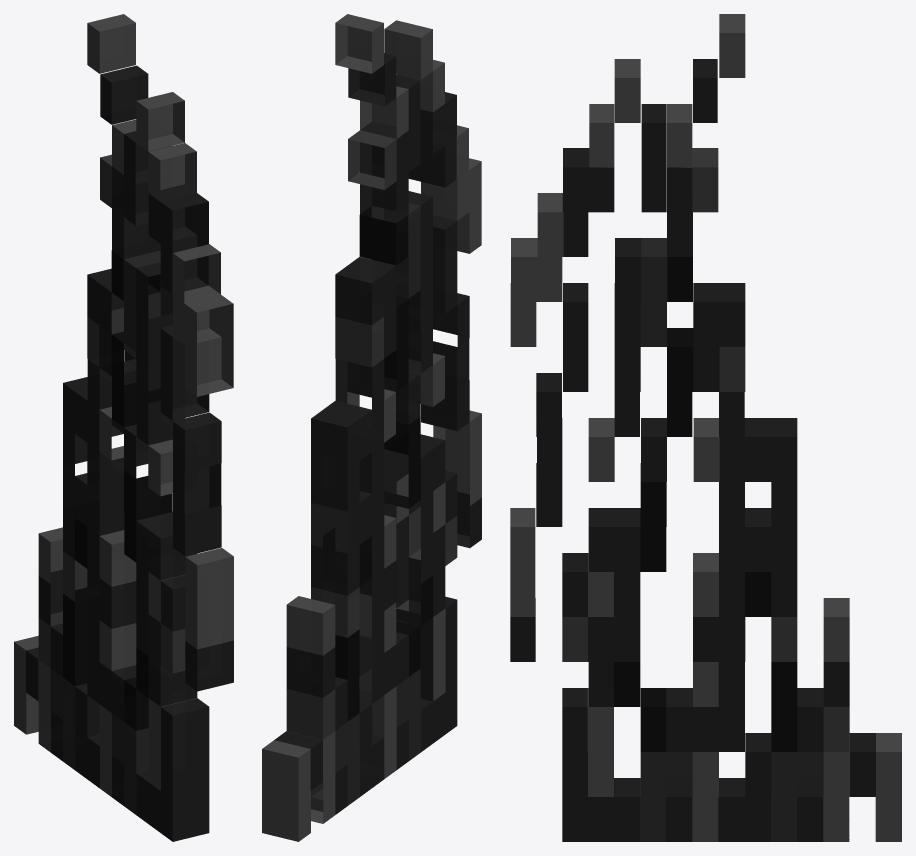
The model's file is wall_scorchmark_4.gltf.
3 views of the same model, side by side, from view 1: azimuth 30°, elevation 25°; view 2: azimuth 150°, elevation 25°; view 3: azimuth 270°, elevation 25° (orthographic). The views are drawn at different scales.
Visible parts, largest first — view 1: wall_scorchmark_4; view 2: wall_scorchmark_4; view 3: wall_scorchmark_4.
Boxes of the visible parts, box(x1,y1,x2,y2) form: wall_scorchmark_4: box(14, 14, 233, 841); wall_scorchmark_4: box(262, 14, 481, 841); wall_scorchmark_4: box(510, 14, 901, 841).
Size of the model in its own units: 0.1009 by 1.99 by 0.8742.
Materials: 1 (1 with a texture image).
